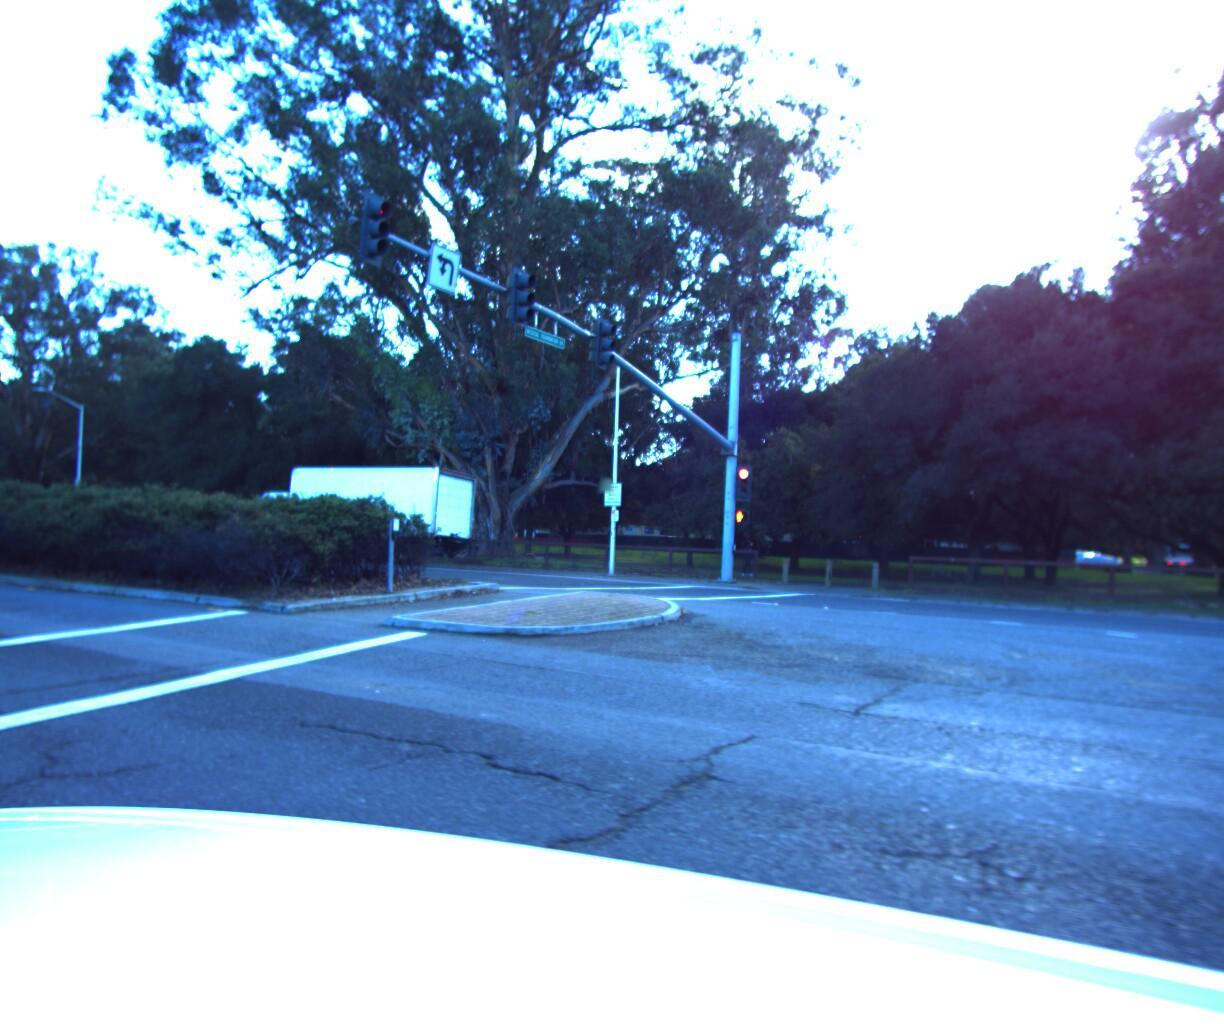truck: (238, 459, 484, 566)
